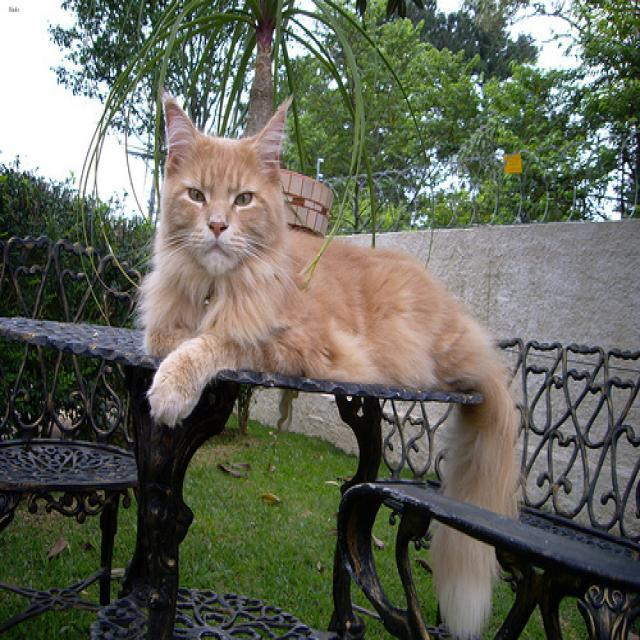Maine_Coon: (160, 92, 292, 273)
